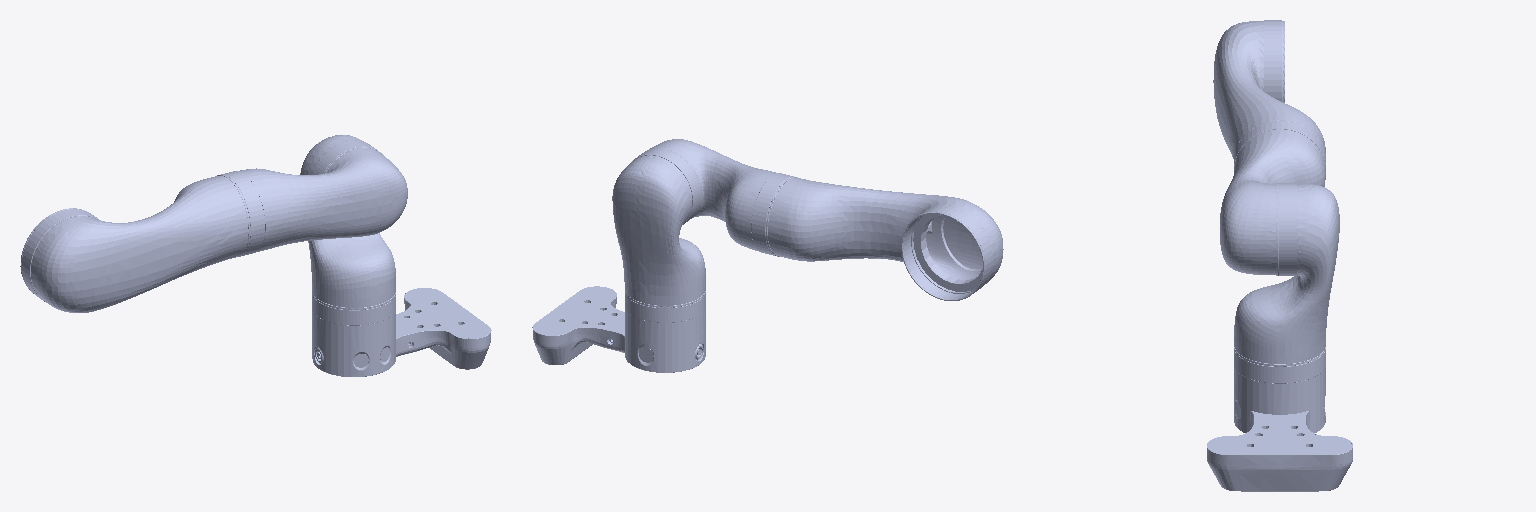
The robot description file, URDF, robot "tl_tcb710v":
<?xml version="1.0" encoding="utf-8"?>
<!-- This URDF was automatically created by SolidWorks to URDF Exporter! Originally created by Stephen Brawner (brawner@gmail.com) 
     Commit Version: 1.6.0-4-g7f85cfe  Build Version: 1.6.7995.38578
     For more information, please see http://wiki.ros.org/sw_urdf_exporter -->
<robot
  name="tl_tcb710v">
  <link
    name="link0">
    <inertial>
      <origin
        xyz="-0.00203916786698491 0.000208461233542917 0.0437970464318419"
        rpy="0 0 0" />
      <mass
        value="0.230943297728628" />
      <inertia
        ixx="0.000578857931988575"
        ixy="2.49644295158469E-06"
        ixz="-3.6276199422181E-06"
        iyy="0.000597326060992721"
        iyz="8.87603974516222E-07"
        izz="0.000630268815467387" />
    </inertial>
    <visual>
      <origin
        xyz="0 0 0"
        rpy="0 0 0" />
      <geometry>
        <mesh
          filename="package://tl_description/meshes/tl_tcb710v/link0.STL" />
      </geometry>
      <material
        name="">
        <color
          rgba="0.792156862745098 0.819607843137255 0.933333333333333 1" />
      </material>
    </visual>
    <collision>
      <origin
        xyz="0 0 0"
        rpy="0 0 0" />
      <geometry>
        <mesh
          filename="package://tl_description/meshes/tl_tcb710v/link0.STL" />
      </geometry>
    </collision>
  </link>
  <link
    name="link1">
    <inertial>
      <origin
        xyz="-2.82592835967022E-06 -0.0149440554612562 0.0760738628611228"
        rpy="0 0 0" />
      <mass
        value="0.188795049535535" />
      <inertia
        ixx="0.000644330974536614"
        ixy="5.55804168466963E-08"
        ixz="-5.40921744937906E-08"
        iyy="0.000669839544820847"
        iyz="0.000101917330586459"
        izz="0.000292784373513458" />
    </inertial>
    <visual>
      <origin
        xyz="0 0 0"
        rpy="0 0 0" />
      <geometry>
        <mesh
          filename="package://tl_description/meshes/tl_tcb710v/link1.STL" />
      </geometry>
      <material
        name="">
        <color
          rgba="0.792156862745098 0.819607843137255 0.933333333333333 1" />
      </material>
    </visual>
    <collision>
      <origin
        xyz="0 0 0"
        rpy="0 0 0" />
      <geometry>
        <mesh
          filename="package://tl_description/meshes/tl_tcb710v/link1.STL" />
      </geometry>
    </collision>
  </link>
  <joint
    name="joint1"
    type="revolute">
    <origin
      xyz="0 0 0.12215"
      rpy="0 0 0" />
    <parent
      link="link0" />
    <child
      link="link1" />
    <axis
      xyz="0 0 1" />
    <limit
      lower="-3.1416"
      upper="3.1416"
      effort="0"
      velocity="0" />
  </joint>
  <link
    name="link2">
    <inertial>
      <origin
        xyz="-1.20347801173379E-05 -0.0623096534981243 0.0137313757510769"
        rpy="0 0 0" />
      <mass
        value="0.167852810050995" />
      <inertia
        ixx="0.000623582919856085"
        ixy="-1.02023977094873E-07"
        ixz="-2.62605885954612E-08"
        iyy="0.000204004006193839"
        iyz="-9.63924565522136E-05"
        izz="0.00065392663703825" />
    </inertial>
    <visual>
      <origin
        xyz="0 0 0"
        rpy="0 0 0" />
      <geometry>
        <mesh
          filename="package://tl_description/meshes/tl_tcb710v/link2.STL" />
      </geometry>
      <material
        name="">
        <color
          rgba="0.792156862745098 0.819607843137255 0.933333333333333 1" />
      </material>
    </visual>
    <collision>
      <origin
        xyz="0 0 0"
        rpy="0 0 0" />
      <geometry>
        <mesh
          filename="package://tl_description/meshes/tl_tcb710v/link2.STL" />
      </geometry>
    </collision>
  </link>
  <joint
    name="joint2"
    type="revolute">
    <origin
      xyz="0 0.00665 0.14085"
      rpy="-1.5708 0 0" />
    <parent
      link="link1" />
    <child
      link="link2" />
    <axis
      xyz="0 0 1" />
    <limit
      lower="-2.3737"
      upper="2.3737"
      effort="0"
      velocity="0" />
  </joint>
  <link
    name="link3">
    <inertial>
      <origin
        xyz="5.13666316999514E-06 0.0163972808307603 0.0859507480560348"
        rpy="0 0 0" />
      <mass
        value="0.168577544685975" />
      <inertia
        ixx="0.000629527752495382"
        ixy="-2.01711688596782E-08"
        ixz="-6.31356384478896E-08"
        iyy="0.000646662287748903"
        iyz="-9.33674458346499E-05"
        izz="0.000173965245336742" />
    </inertial>
    <visual>
      <origin
        xyz="0 0 0"
        rpy="0 0 0" />
      <geometry>
        <mesh
          filename="package://tl_description/meshes/tl_tcb710v/link3.STL" />
      </geometry>
      <material
        name="">
        <color
          rgba="0.792156862745098 0.819607843137255 0.933333333333333 1" />
      </material>
    </visual>
    <collision>
      <origin
        xyz="0 0 0"
        rpy="0 0 0" />
      <geometry>
        <mesh
          filename="package://tl_description/meshes/tl_tcb710v/link3.STL" />
      </geometry>
    </collision>
  </link>
  <joint
    name="joint3"
    type="revolute">
    <origin
      xyz="0 -0.16015 -0.00665"
      rpy="1.5708 0 0" />
    <parent
      link="link2" />
    <child
      link="link3" />
    <axis
      xyz="0 0 1" />
    <limit
      lower="-3.1416"
      upper="3.1416"
      effort="0"
      velocity="0" />
  </joint>
  <link
    name="link4">
    <inertial>
      <origin
        xyz="2.74581164050521E-06 0.0654996487889736 0.0144299040039494"
        rpy="0 0 0" />
      <mass
        value="0.145368242339251" />
      <inertia
        ixx="0.000526467477621817"
        ixy="2.65506656483807E-08"
        ixz="8.84217160984476E-09"
        iyy="0.000131598082486834"
        iyz="7.17192955212241E-05"
        izz="0.000544513479543757" />
    </inertial>
    <visual>
      <origin
        xyz="0 0 0"
        rpy="0 0 0" />
      <geometry>
        <mesh
          filename="package://tl_description/meshes/tl_tcb710v/link4.STL" />
      </geometry>
      <material
        name="">
        <color
          rgba="0.792156862745098 0.819607843137255 0.933333333333333 1" />
      </material>
    </visual>
    <collision>
      <origin
        xyz="0 0 0"
        rpy="0 0 0" />
      <geometry>
        <mesh
          filename="package://tl_description/meshes/tl_tcb710v/link4.STL" />
      </geometry>
    </collision>
  </link>
  <joint
    name="joint4"
    type="revolute">
    <origin
      xyz="0 -0.00515 0.16035"
      rpy="1.5708 1.5708 0" />
    <parent
      link="link3" />
    <child
      link="link4" />
    <axis
      xyz="0 0 -1" />
    <limit
      lower="-4.1423"
      upper="0.9935"
      effort="0"
      velocity="0" />
  </joint>
  <link
    name="link5">
    <inertial>
      <origin
        xyz="5.11048010615453E-06 -0.0131445598588105 0.0626746043886207"
        rpy="0 0 0" />
      <mass
        value="0.0899817886579456" />
      <inertia
        ixx="0.000204808490641904"
        ixy="1.16223798610192E-08"
        ixz="-4.07644793992788E-08"
        iyy="0.00020796973802648"
        iyz="3.60478115182964E-05"
        izz="7.75189800149226E-05" />
    </inertial>
    <visual>
      <origin
        xyz="0 0 0"
        rpy="0 0 0" />
      <geometry>
        <mesh
          filename="package://tl_description/meshes/tl_tcb710v/link5.STL" />
      </geometry>
      <material
        name="">
        <color
          rgba="0.792156862745098 0.819607843137255 0.933333333333333 1" />
      </material>
    </visual>
    <collision>
      <origin
        xyz="0 0 0"
        rpy="0 0 0" />
      <geometry>
        <mesh
          filename="package://tl_description/meshes/tl_tcb710v/link5.STL" />
      </geometry>
    </collision>
  </link>
  <joint
    name="joint5"
    type="revolute">
    <origin
      xyz="0 0.16615 -0.00515"
      rpy="-1.5708 0 0" />
    <parent
      link="link4" />
    <child
      link="link5" />
    <axis
      xyz="0 0 1" />
    <limit
      lower="-3.1416"
      upper="3.1416"
      effort="0"
      velocity="0" />
  </joint>
  <link
    name="link6">
    <inertial>
      <origin
        xyz="-1.29749983042458E-05 -0.0398707312600499 0.00873816110028396"
        rpy="0 0 0" />
      <mass
        value="0.0915266768417848" />
      <inertia
        ixx="0.000167005961446431"
        ixy="3.62631341368022E-08"
        ixz="1.27355290245972E-08"
        iyy="8.07130413912579E-05"
        iyz="-3.15887030571508E-05"
        izz="0.00017083472167683" />
    </inertial>
    <visual>
      <origin
        xyz="0 0 0"
        rpy="0 0 0" />
      <geometry>
        <mesh
          filename="package://tl_description/meshes/tl_tcb710v/link6.STL" />
      </geometry>
      <material
        name="">
        <color
          rgba="0.792156862745098 0.819607843137255 0.933333333333333 1" />
      </material>
    </visual>
    <collision>
      <origin
        xyz="0 0 0"
        rpy="0 0 0" />
      <geometry>
        <mesh
          filename="package://tl_description/meshes/tl_tcb710v/link6.STL" />
      </geometry>
    </collision>
  </link>
  <joint
    name="joint6"
    type="revolute">
    <origin
      xyz="0 0.00615 0.11335"
      rpy="-1.5708 1.5708 0" />
    <parent
      link="link5" />
    <child
      link="link6" />
    <axis
      xyz="0 0 1" />
    <limit
      lower="-3.8386"
      upper="0.6970"
      effort="0"
      velocity="0" />
  </joint>
  <link
    name="link7">
    <inertial>
      <origin
        xyz="-0.0287892705115615 -5.42700382273886E-05 0.0373502804031285"
        rpy="0 0 0" />
      <mass
        value="0.125131844891566" />
      <inertia
        ixx="0.000100142378024278"
        ixy="1.95738644722882E-07"
        ixz="2.86300184738003E-05"
        iyy="0.000255794106379091"
        iyz="-1.08179624876873E-08"
        izz="0.000294395148872123" />
    </inertial>
    <visual>
      <origin
        xyz="0 0 0"
        rpy="0 0 0" />
      <geometry>
        <mesh
          filename="package://tl_description/meshes/tl_tcb710v/link7.STL" />
      </geometry>
      <material
        name="">
        <color
          rgba="0.792156862745098 0.819607843137255 0.933333333333333 1" />
      </material>
    </visual>
    <collision>
      <origin
        xyz="0 0 0"
        rpy="0 0 0" />
      <geometry>
        <mesh
          filename="package://tl_description/meshes/tl_tcb710v/link7.STL" />
      </geometry>
    </collision>
  </link>
  <joint
    name="joint7"
    type="revolute">
    <origin
      xyz="0 -0.10615 -0.00615"
      rpy="1.5708 0 0" />
    <parent
      link="link6" />
    <child
      link="link7" />
    <axis
      xyz="0 0 1" />
    <limit
      lower="-3.1416"
      upper="3.1416"
      effort="0"
      velocity="0" />
  </joint>
  <link
    name="camera_link">
    <inertial>
      <origin
        xyz="0.00587064810100446 0.00117308166560338 0.012484380916695"
        rpy="0 0 0" />
      <mass
        value="0.0471699656660943" />
      <inertia
        ixx="2.87281209035666E-05"
        ixy="4.20816223162563E-07"
        ixz="-4.33349878973852E-09"
        iyy="4.39204835572997E-06"
        iyz="-5.84035676253947E-10"
        izz="2.89731252406548E-05" />
    </inertial>
    <visual>
      <origin
        xyz="0 0 0"
        rpy="0 0 0" />
      <geometry>
        <mesh
          filename="package://tl_description/meshes/tl_tcb710v/camera_link.STL" />
      </geometry>
      <material
        name="">
        <color
          rgba="0.792156862745098 0.819607843137255 0.933333333333333 1" />
      </material>
    </visual>
    <collision>
      <origin
        xyz="0 0 0"
        rpy="0 0 0" />
      <geometry>
        <mesh
          filename="package://tl_description/meshes/tl_tcb710v/camera_link.STL" />
      </geometry>
    </collision>
  </link>
  <joint
    name="camera_joint"
    type="fixed">
    <origin
      xyz="-0.078 0 0.046631"
      rpy="0 -1.5708 0" />
    <parent
      link="link7" />
    <child
      link="camera_link" />
    <axis
      xyz="0 0 0" />
  </joint>
</robot>

--- What the picture shows (computed from the rendered views, not written in the file) ---
The picture shows the robot from 3 angles, left to right: view 1: azimuth 30°, elevation 25°; view 2: azimuth 150°, elevation 25°; view 3: azimuth 270°, elevation 25°; orthographic projection.
Robot: tl_tcb710v — 9 links, 8 joints (7 revolute, 1 fixed); root link link0; default pose: all joints at 0.
Links seen in each view (by area): view 1: link4, link5, link7, link6; view 2: link4, link6, link7, link5; view 3: link7, link6, link5, link4.
Link boxes in pixels (<box>): link4: <box>20,176,248,312</box>; link5: <box>217,148,407,256</box>; link7: <box>312,288,491,376</box>; link6: <box>300,135,395,307</box>; link4: <box>768,177,1003,300</box>; link6: <box>612,148,705,305</box>; link7: <box>532,286,705,372</box>; link5: <box>649,139,797,256</box>; link7: <box>1207,347,1352,491</box>; link6: <box>1234,183,1339,363</box>; link5: <box>1220,120,1325,274</box>; link4: <box>1213,20,1325,158</box>.
Size in the robot's own frame: 0.4289 by 0.112 by 0.214 metres.
Meshes: 9 distinct files referenced, 5 mesh visuals loaded (5 binary STL); not drawn: 4 (reference not matched to a file when rendering).
